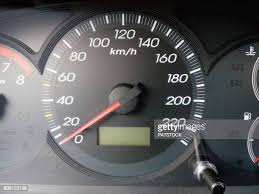Digital_Meter: (94, 126, 150, 148)
